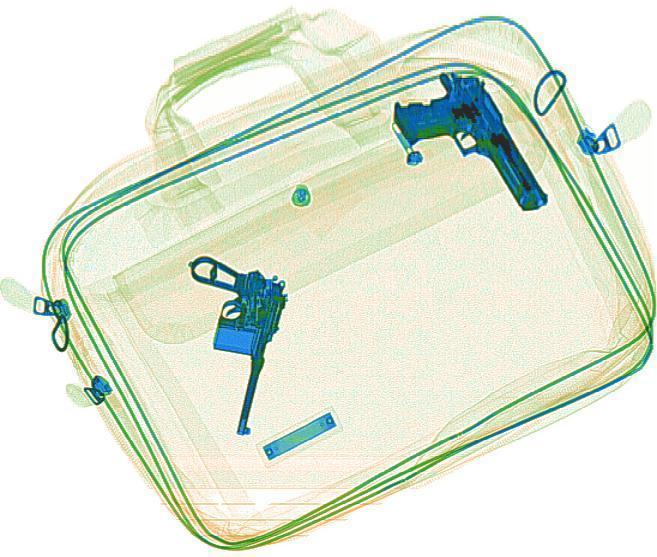Gun: (375, 60, 555, 235), (148, 251, 295, 438)
